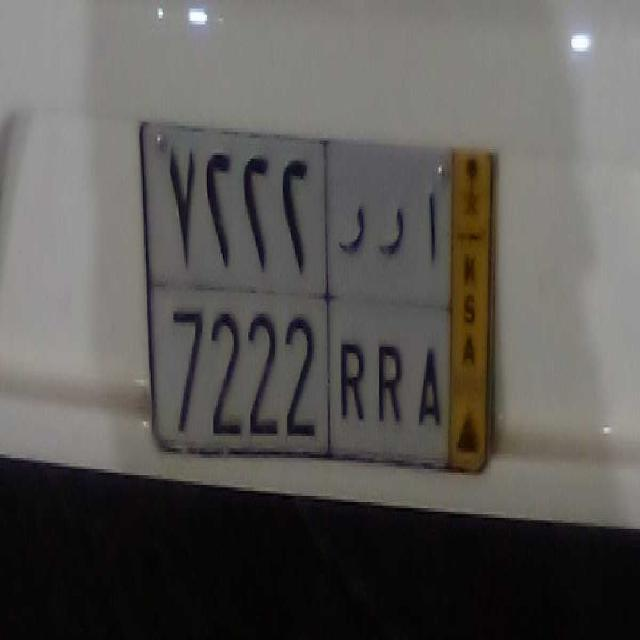license_plate: (143, 277, 449, 466)
